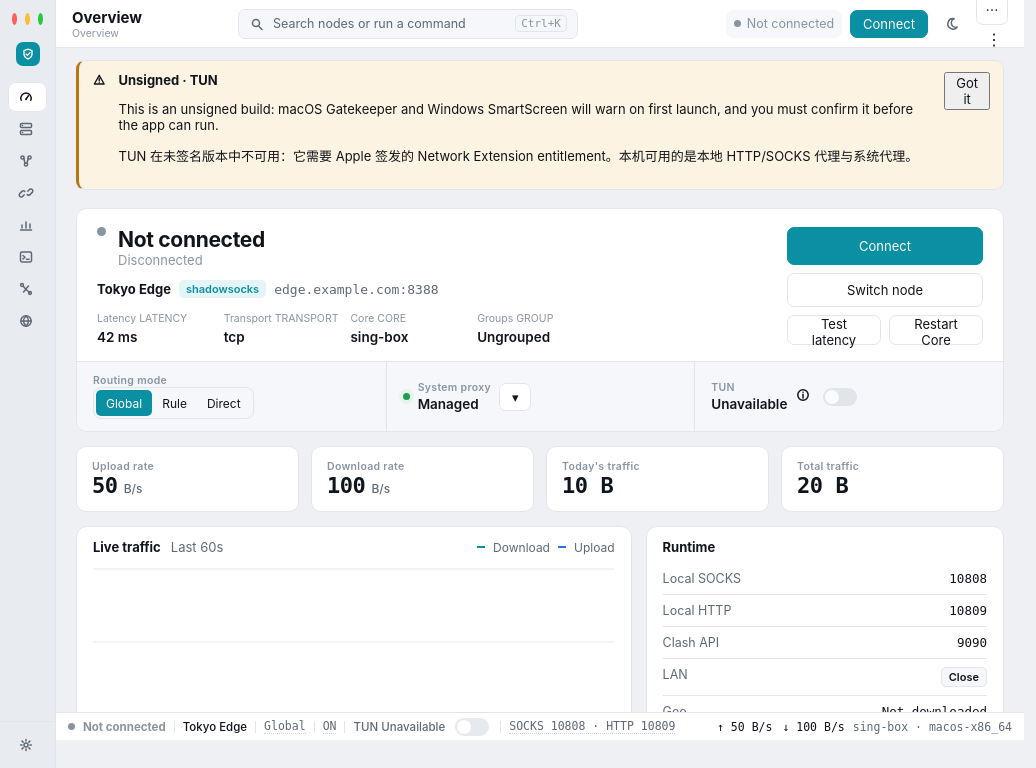
Test: redesigned shell › translates untested latency labels in English
This screenshot has width=1036, height=768.
Click the 2nd button with class "nav-item": click(28, 129) [8,114,47,144]
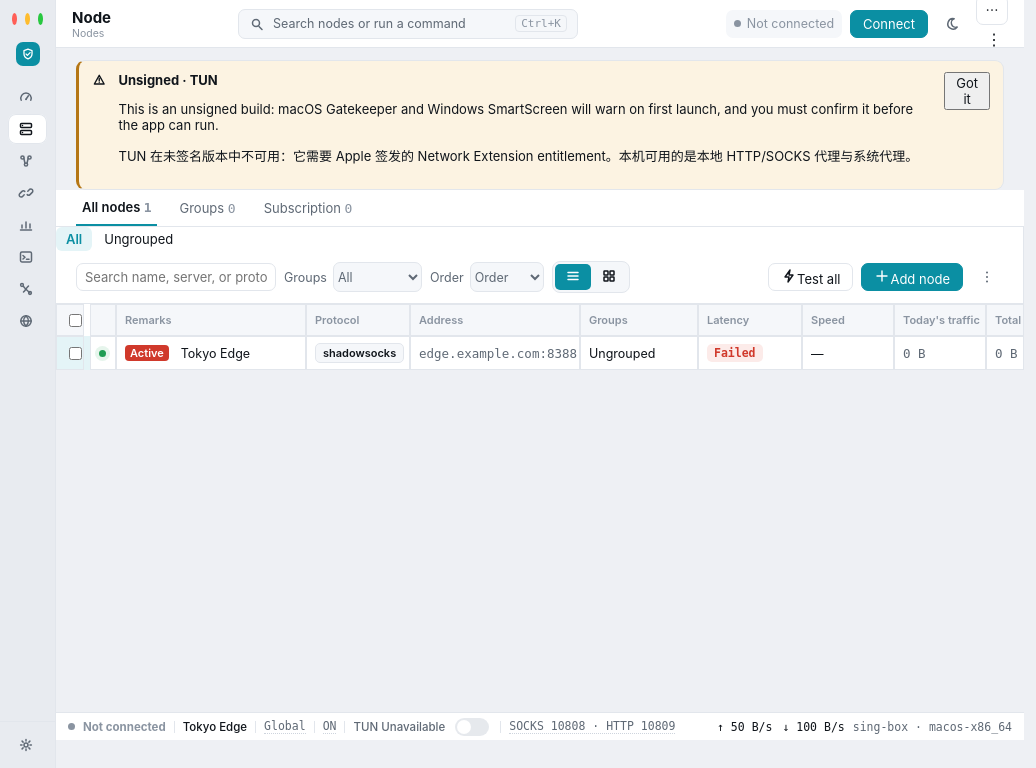
Check: the row that starts with "Active" shows "Failed", box [714,346,756,360]
